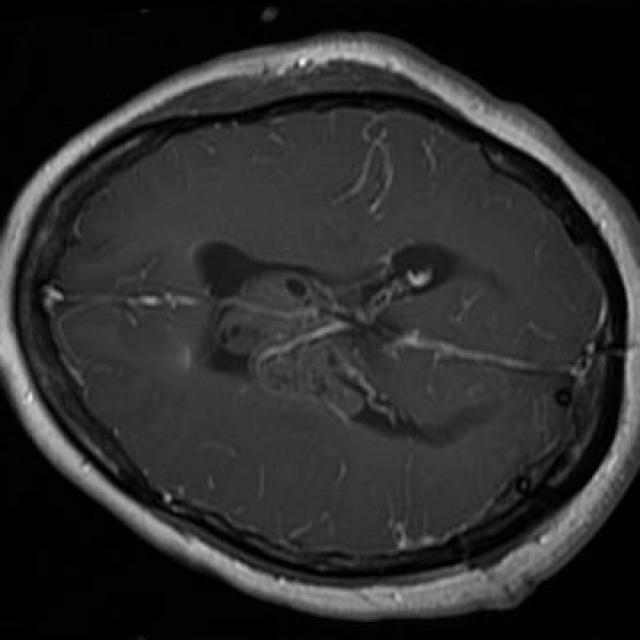glioma: (216, 267, 433, 417)
